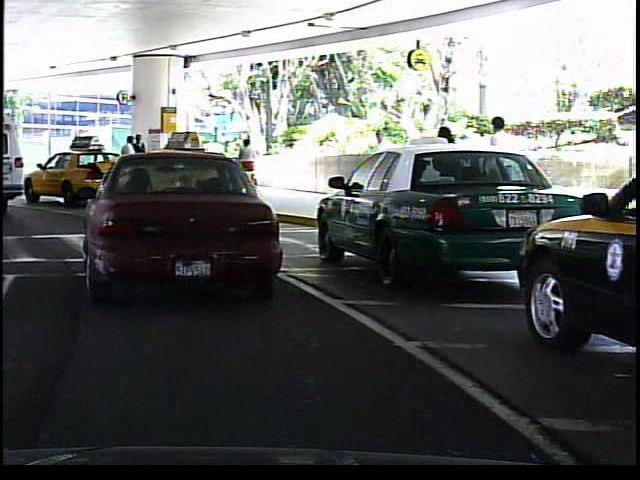person: (477, 111, 525, 229), (423, 118, 469, 224), (364, 119, 397, 201), (236, 135, 259, 192), (117, 133, 138, 189), (132, 130, 150, 187)
